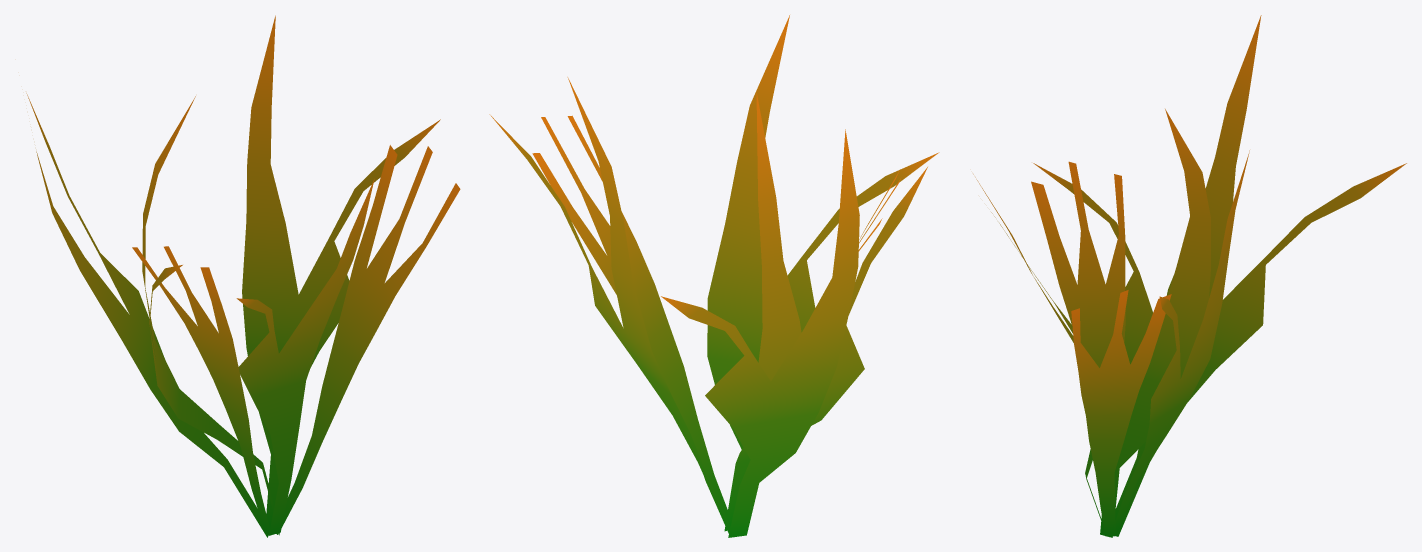
Rendered from Common Eelgrass_LOD1_Var4_sjglk.fbx.
The picture shows the model from 3 angles, left to right: view 1: azimuth 30°, elevation 25°; view 2: azimuth 150°, elevation 25°; view 3: azimuth 270°, elevation 25°; orthographic projection. The views are drawn at different scales.
Parts seen in each view (by area): view 1: _4e2a_Var4_LOD1; view 2: _4e2a_Var4_LOD1; view 3: _4e2a_Var4_LOD1.
Part boxes in pixels (x1,y1,x2,y2): _4e2a_Var4_LOD1: [26, 15, 460, 537]; _4e2a_Var4_LOD1: [489, 15, 939, 537]; _4e2a_Var4_LOD1: [973, 15, 1406, 537].
Size of the model in its own units: 55.07 by 65.7 by 59.53.
